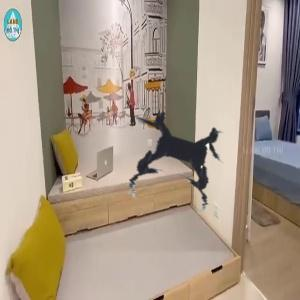drone: (88, 67, 272, 251)
